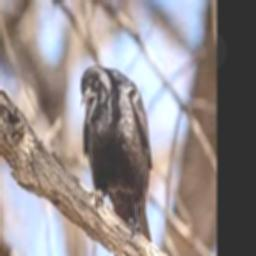Crow: (79, 64, 153, 256)
